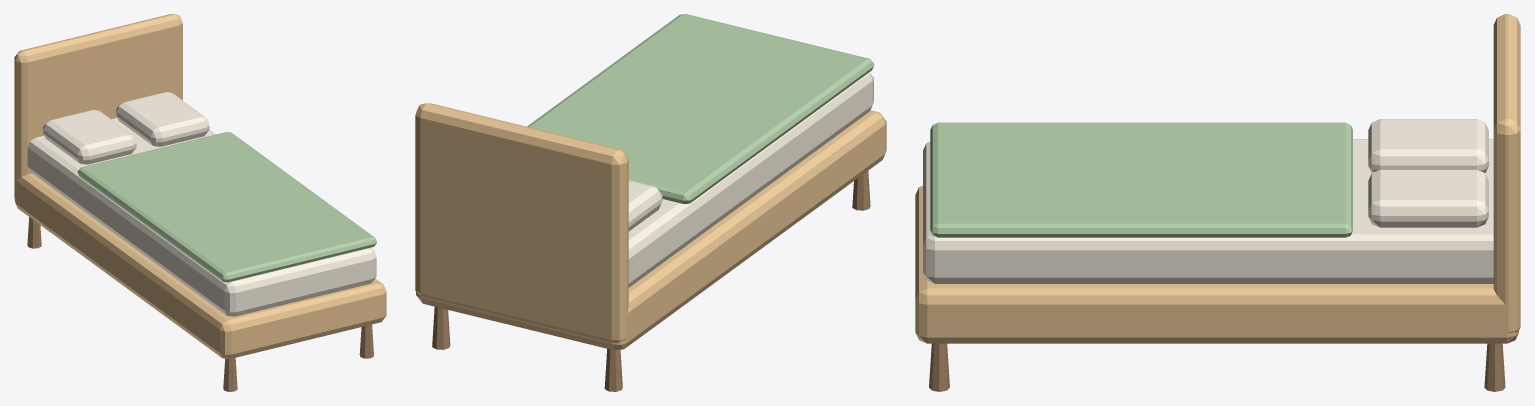
File: cozy-home-interiors-single-bed-7cf46abc.glb
The picture shows the model from 3 angles, left to right: view 1: azimuth 30°, elevation 25°; view 2: azimuth 150°, elevation 25°; view 3: azimuth 270°, elevation 25°; orthographic projection. The views are drawn at different scales.
Visible parts, largest first — view 1: single-bed; view 2: single-bed; view 3: single-bed.
Part boxes in pixels (<box>): single-bed: <box>14,14,386,391</box>; single-bed: <box>415,14,886,391</box>; single-bed: <box>915,14,1520,391</box>.
Bounding box in the file's own units: 0.9 × 1 × 2.
